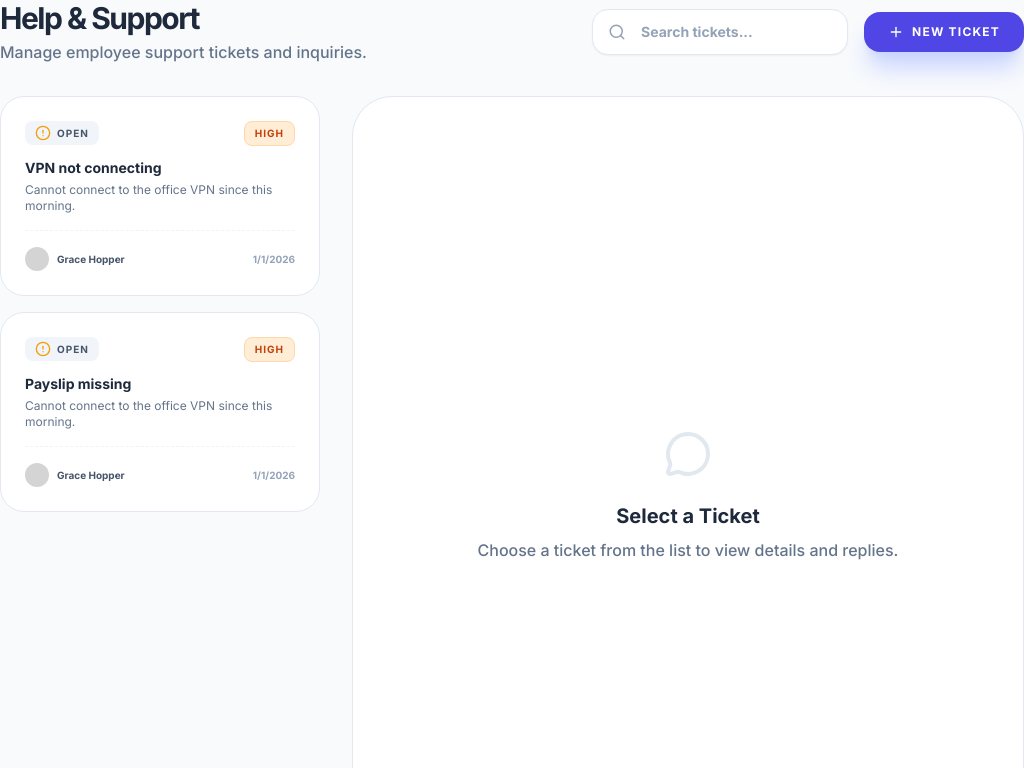
Test: Support › filters tickets by subject, category, or status (case-insensitively)
Type "payroll" into the field with placeholder "Search tickets..." at coordinates (720, 32), box top-left (592, 9), bottom-right (848, 55)
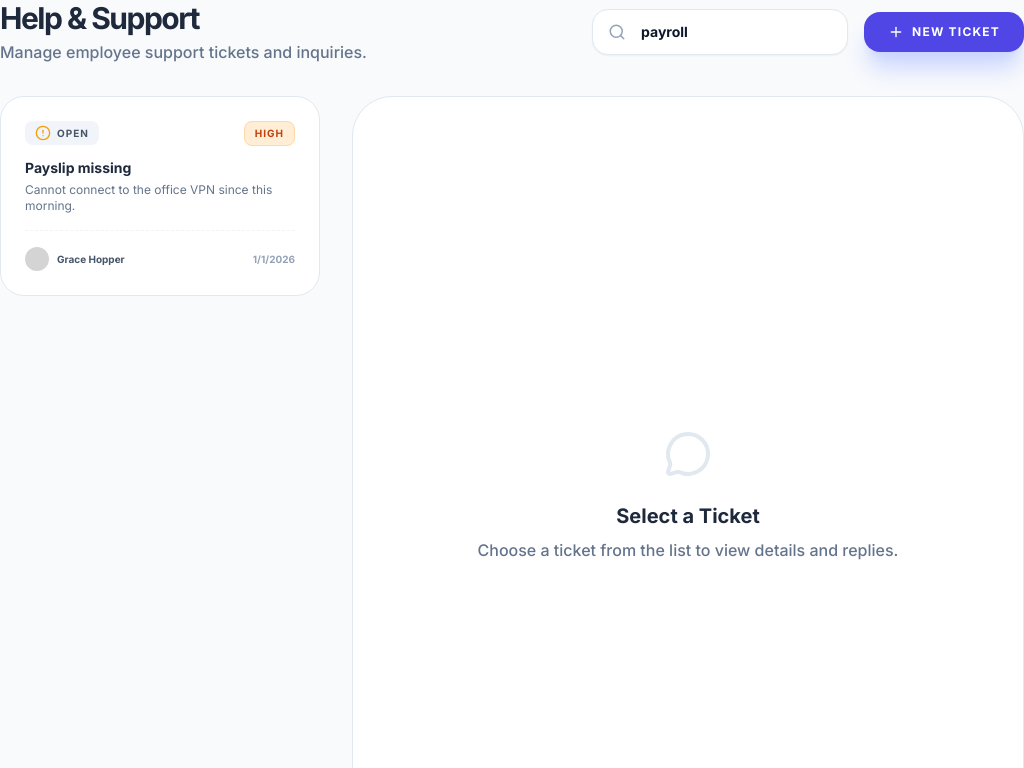
Expected: the heading "Payslip missing" is shown, top-left (25, 159), bottom-right (131, 176)
Expected: the heading "VPN not connecting" is gone
